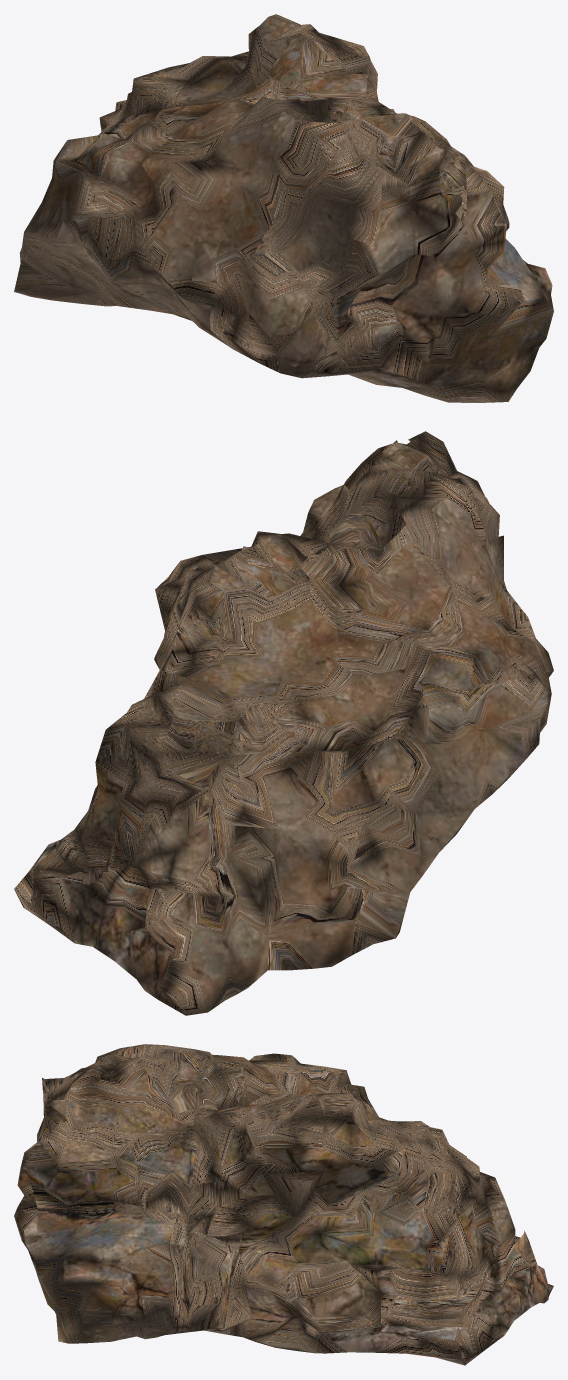
The model's file is boulder_01.glb.
3 views of the same model, one above another, from view 1: azimuth 30°, elevation 25°; view 2: azimuth 150°, elevation 25°; view 3: azimuth 270°, elevation 25° (orthographic). The views are drawn at different scales.
Visible parts, largest first — view 1: boulder_01; view 2: boulder_01; view 3: boulder_01.
Part boxes in pixels (x1,y1,x2,y2): boulder_01: [14, 14, 553, 402]; boulder_01: [14, 431, 553, 1015]; boulder_01: [14, 1044, 553, 1365].
Size of the model in its own units: 1.27 by 0.9767 by 1.82.
1 material, 1 textured.
